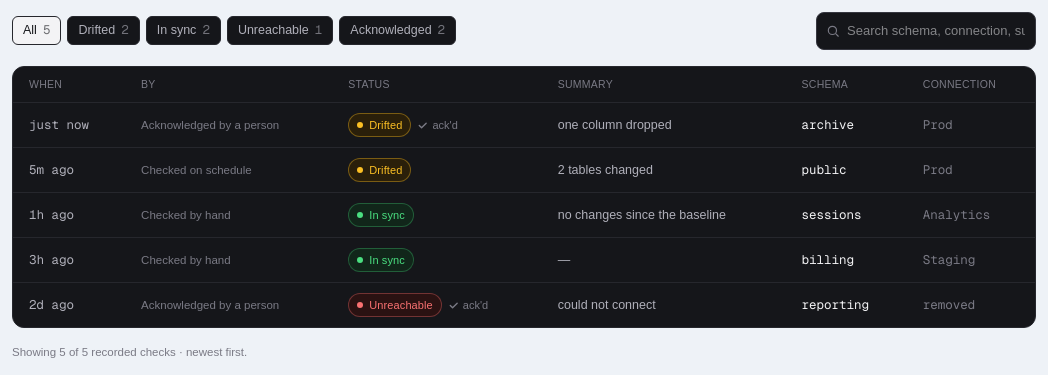
Test: the line under the table › keeps the plural when the filter leaves one row of many
Click the button "Unreachable1".
click(280, 31)  # box [227,16,333,45]
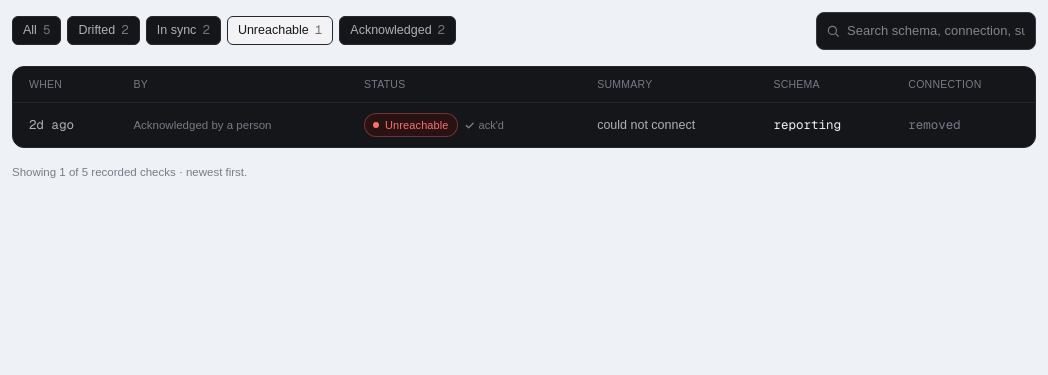
Expected: the text "Showing 1 of 5 recorded checks · newest first." is shown, [12,166,247,178]
